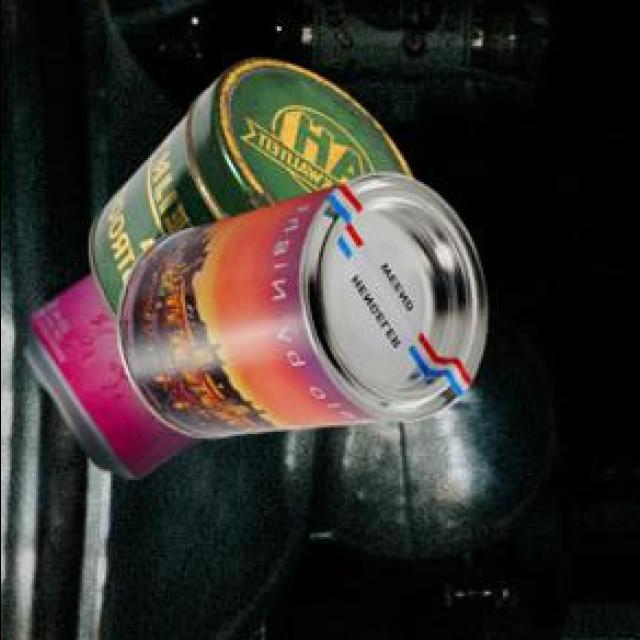logam: (119, 176, 490, 442), (91, 62, 415, 325), (27, 277, 205, 481)
